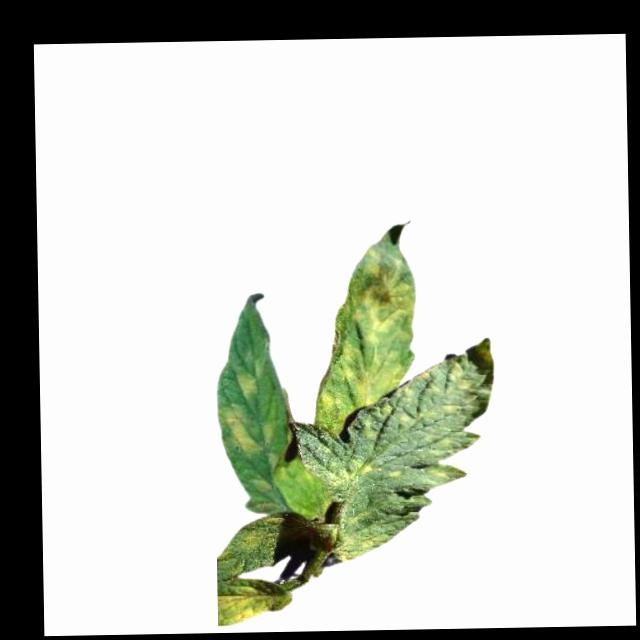Leaf_Mold: (312, 240, 418, 433), (217, 578, 289, 627), (334, 509, 395, 564), (326, 452, 372, 489), (225, 407, 260, 449), (237, 369, 263, 397)
